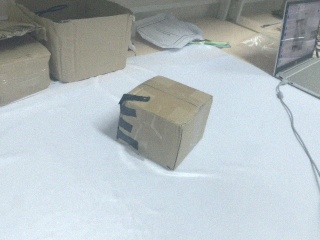box: (10, 1, 134, 83), (117, 75, 214, 171), (1, 28, 52, 110)
